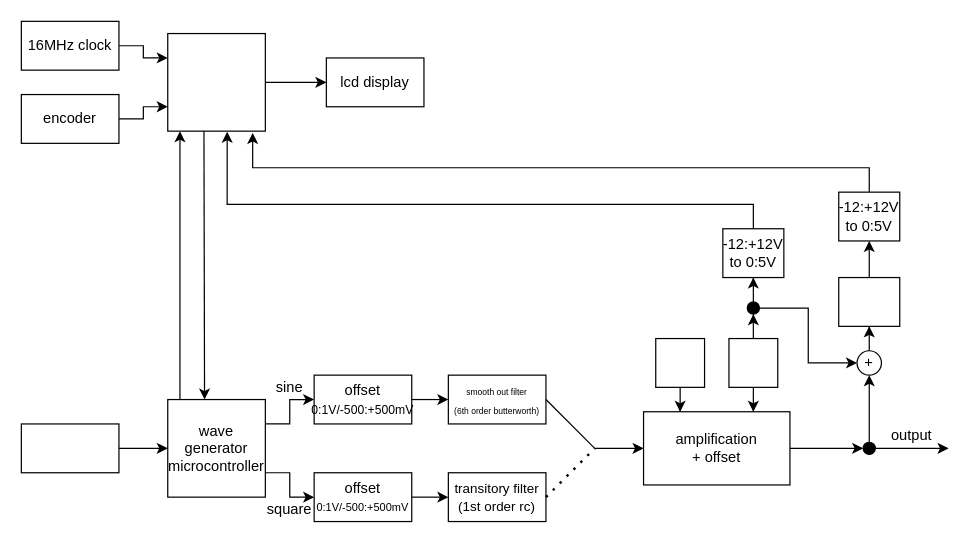
Image size: 980x543. Some labels were removed from this diagram. Here are the shapes that lost their labels. From the top down, the centre of each, then its label:
At pixel 216 81: "User interface microcontroller".
At pixel 869 301: "peak detector".
At pixel 680 362: "amplification potentiometer".
At pixel 753 362: "offset potentiometer".
At pixel 69 448: "PSU".
